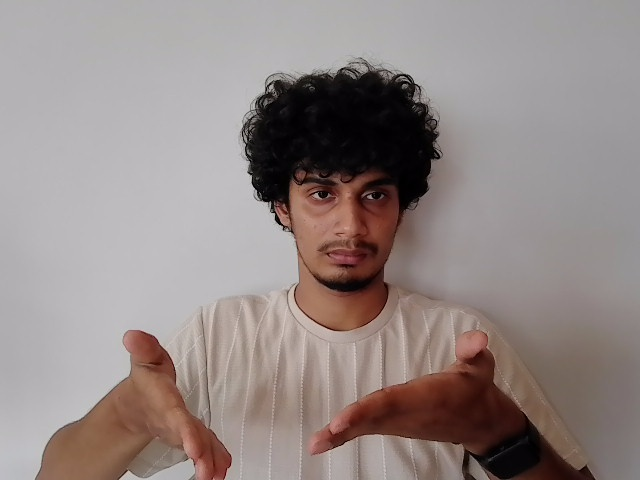here: (123, 323, 494, 480)
